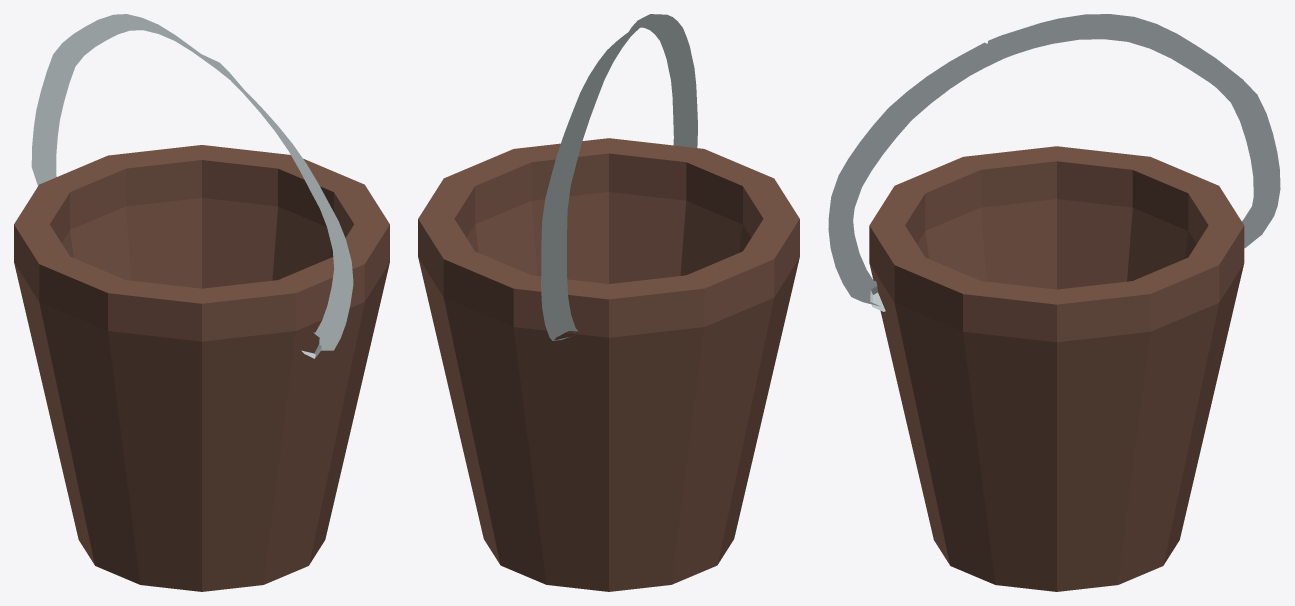
File: Bucket.glb
The picture shows the model from 3 angles, left to right: view 1: azimuth 30°, elevation 25°; view 2: azimuth 150°, elevation 25°; view 3: azimuth 270°, elevation 25°; orthographic projection.
Parts seen in each view (by area): view 1: Node; view 2: Node; view 3: Node.
Part boxes in pixels (<box>): Node: <box>14,14,389,591</box>; Node: <box>418,14,799,591</box>; Node: <box>828,14,1280,591</box>.
Bounding box in the file's own units: 0.12 × 0.1803 × 0.1447.
